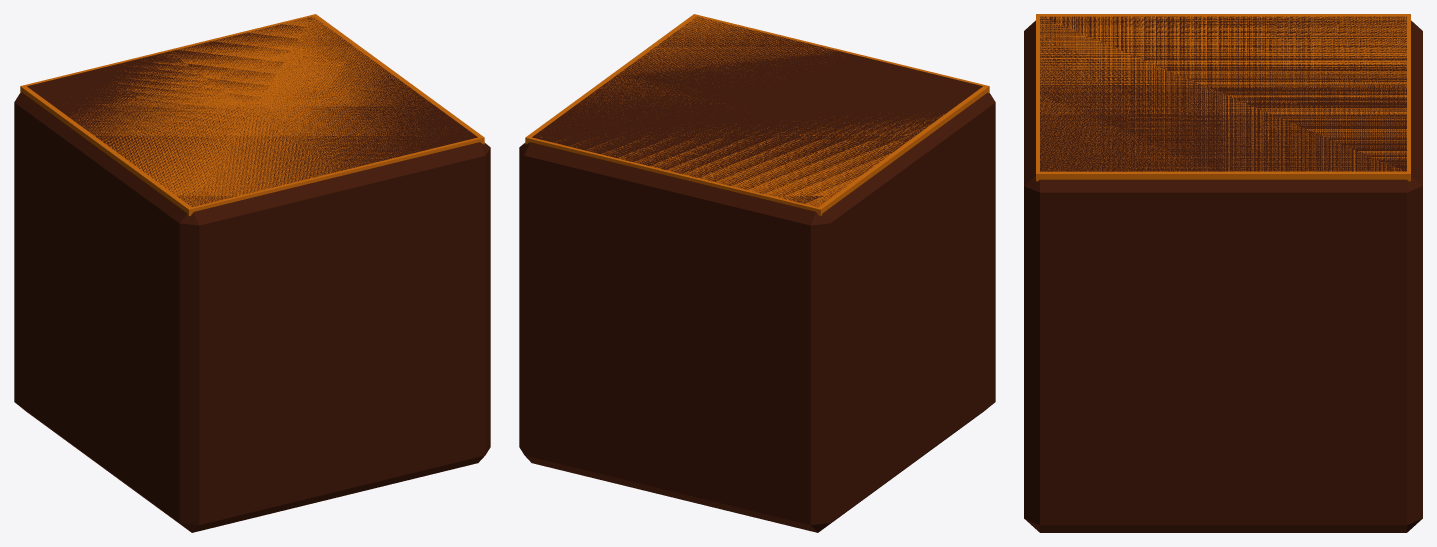
Rendered from panel_fragment_wood.fbx.
The picture shows the model from 3 angles, left to right: view 1: azimuth 30°, elevation 25°; view 2: azimuth 150°, elevation 25°; view 3: azimuth 270°, elevation 25°; orthographic projection. The views are drawn at different scales.
Visible parts, largest first — view 1: Part_0; view 2: Part_0; view 3: Part_0.
Boxes of the visible parts, box(x1,y1,x2,y2) form: Part_0: box(14, 14, 490, 532); Part_0: box(519, 14, 995, 532); Part_0: box(1024, 14, 1422, 532).
Bounding box in the file's own units: 1 × 1 × 1.
